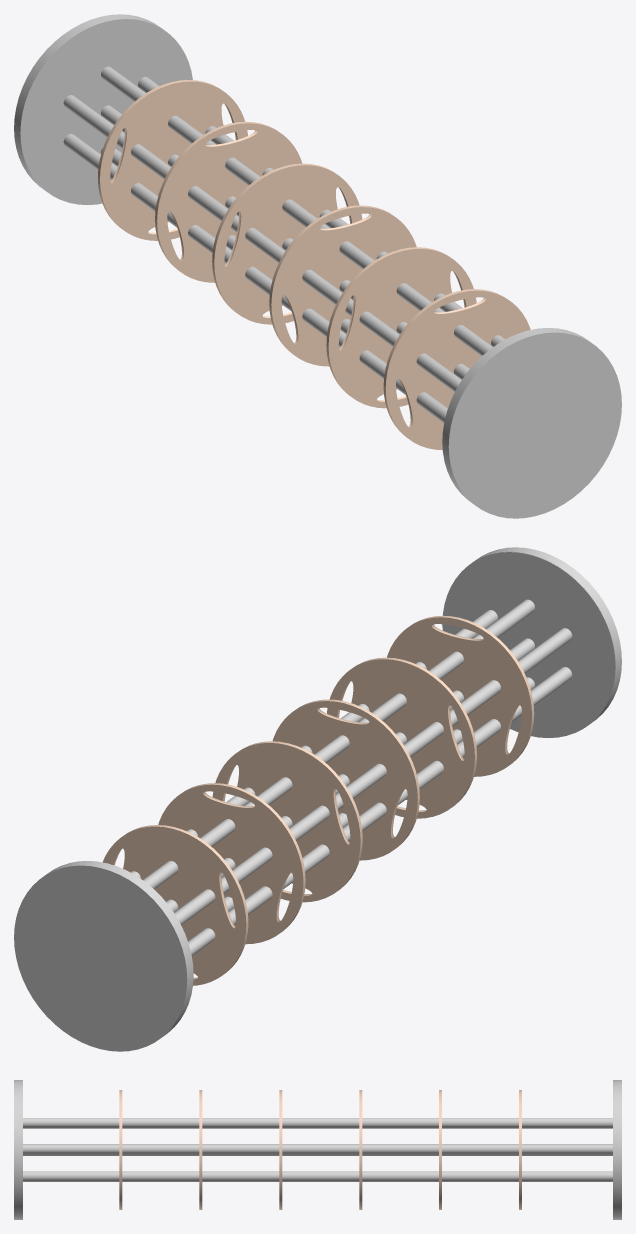
File: Baffled_Tube_and_Shell_Heat_Exchanger.glb
3 views of the same model, one above another, from view 1: azimuth 30°, elevation 25°; view 2: azimuth 150°, elevation 25°; view 3: azimuth 270°, elevation 25° (orthographic). The views are drawn at different scales.
Visible parts, largest first — view 1: Baffled Tube and Shell Heat Exchanger; view 2: Baffled Tube and Shell Heat Exchanger; view 3: Baffled Tube and Shell Heat Exchanger.
Boxes of the visible parts, bbox=[...] form: Baffled Tube and Shell Heat Exchanger: bbox=[14, 14, 621, 518]; Baffled Tube and Shell Heat Exchanger: bbox=[14, 547, 621, 1051]; Baffled Tube and Shell Heat Exchanger: bbox=[14, 1080, 621, 1219].
Size of the model in its own units: 0.14 by 0.14 by 0.6085.
